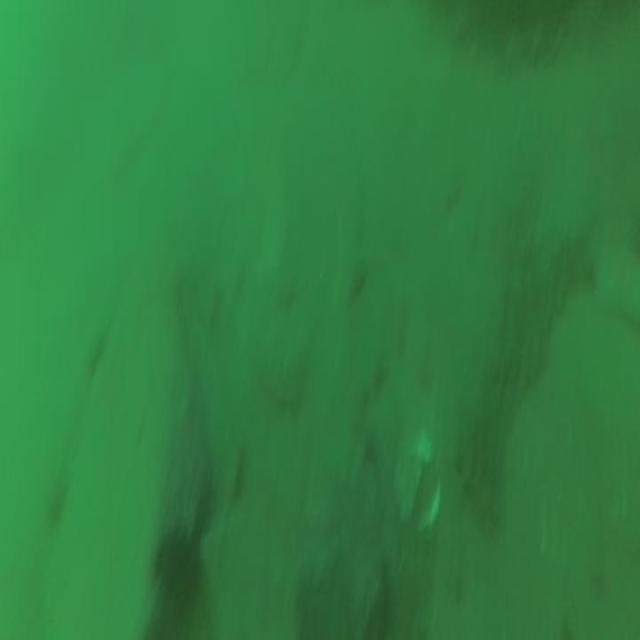echinus: (152, 522, 205, 632)
holothurian: (546, 226, 594, 314)
scallop: (393, 427, 440, 537)
